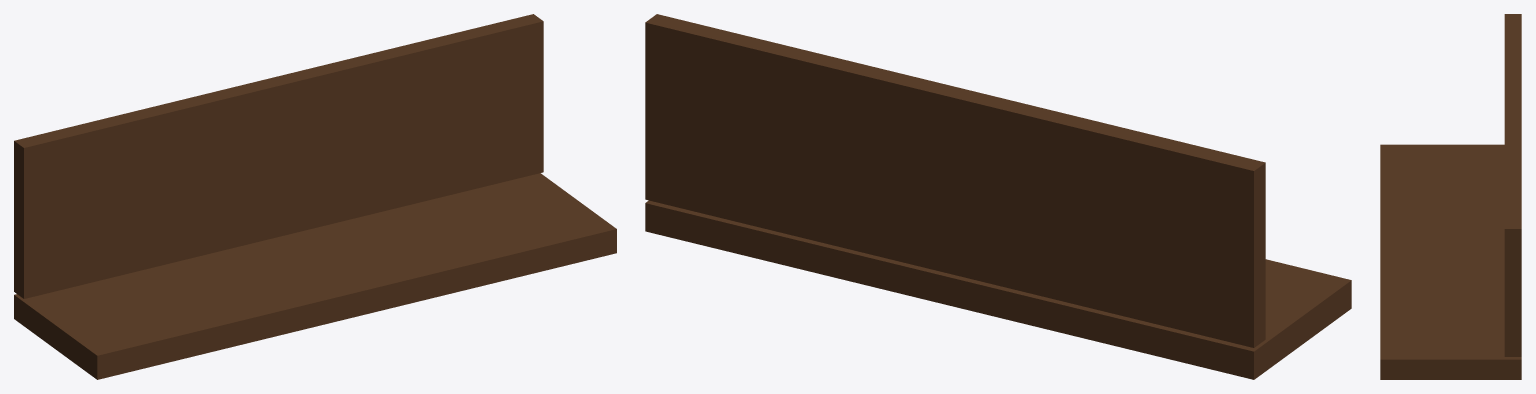
Rendered from prop_bench.glb.
3 renders of one model, left to right at view 1: azimuth 30°, elevation 25°; view 2: azimuth 150°, elevation 25°; view 3: azimuth 270°, elevation 25°, orthographic. The views are drawn at different scales.
Bounding box in the file's own units: 1.8 × 0.59 × 0.5.
